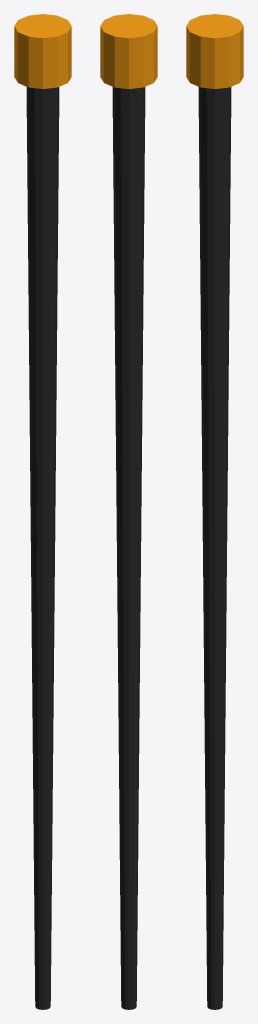
File: SG_BastonYellow.fbx
3 views of the same model, side by side, from view 1: azimuth 30°, elevation 25°; view 2: azimuth 150°, elevation 25°; view 3: azimuth 330°, elevation 25° (orthographic).
Parts seen in each view (by area): view 1: baston; view 2: baston; view 3: baston.
Part boxes in pixels (x1,y1,x2,y2): baston: [14, 14, 71, 1009]; baston: [100, 14, 157, 1009]; baston: [186, 14, 243, 1009].
Bounding box in the file's own units: 0.0714 × 1.34 × 0.0714.
